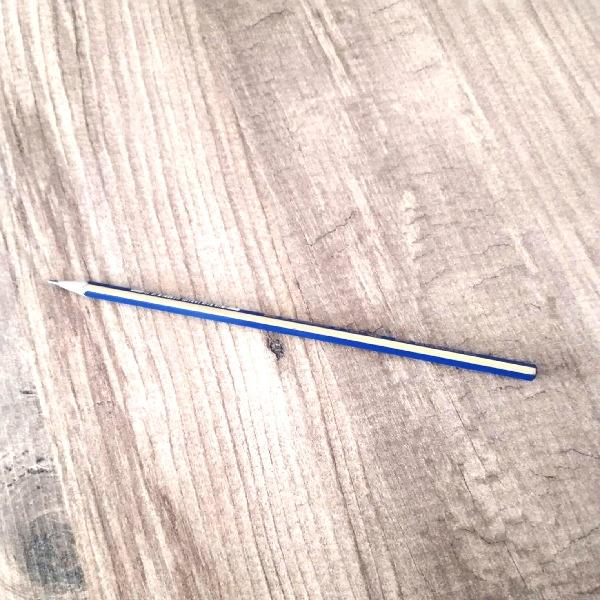pencil: (45, 273, 542, 390)
